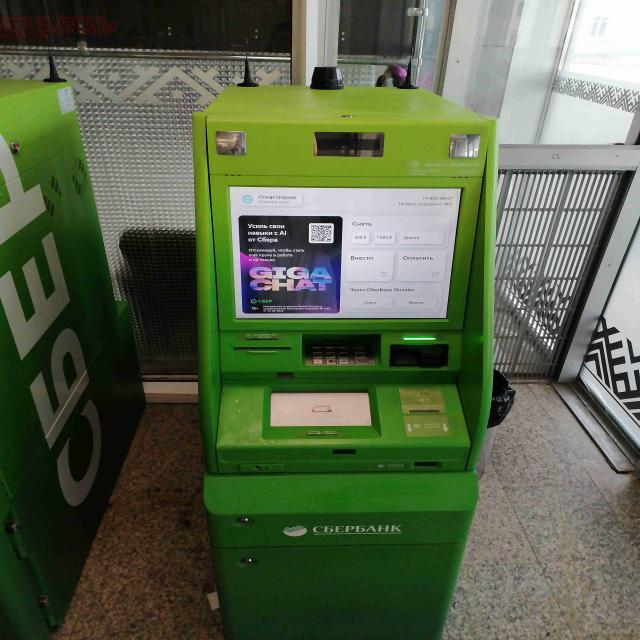bank: (203, 85, 498, 640), (0, 75, 152, 640)
